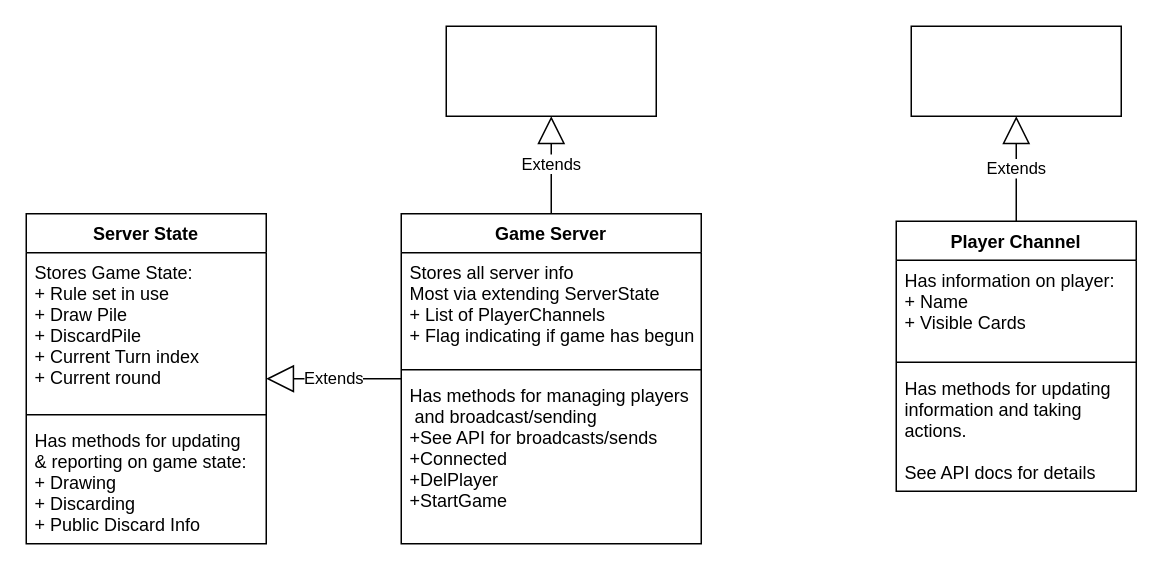
Image size: 1163x575. Some labels were removed from this diagram. The shapes that lost their labels are listed below. From the top down, each one's centre as x and y in pixels, then its label:
[550,70]: Server From PodSixNet
[1015,70]: Channel From PodSixNet
